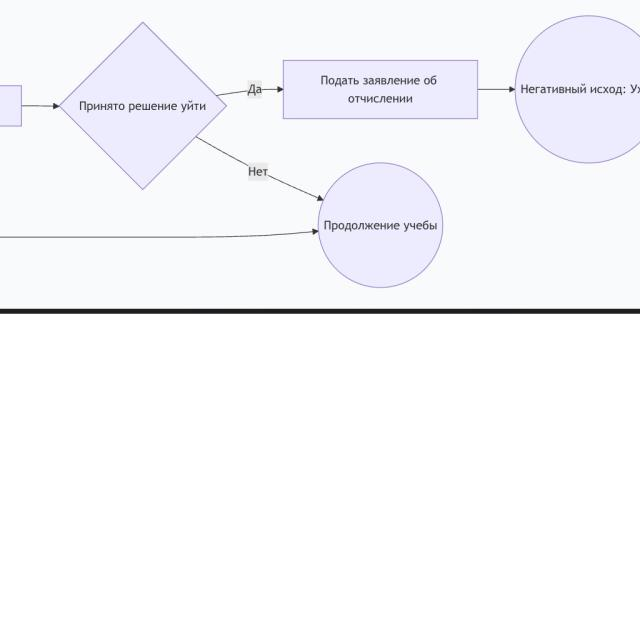arrow: (193, 134, 325, 204), (0, 225, 319, 241), (214, 84, 284, 101), (20, 100, 61, 114), (478, 83, 515, 96)
circle: (319, 164, 442, 287)
diamond: (60, 24, 225, 188)
rectangle: (283, 60, 478, 118)
text_region: (247, 163, 270, 180), (245, 82, 262, 99)
